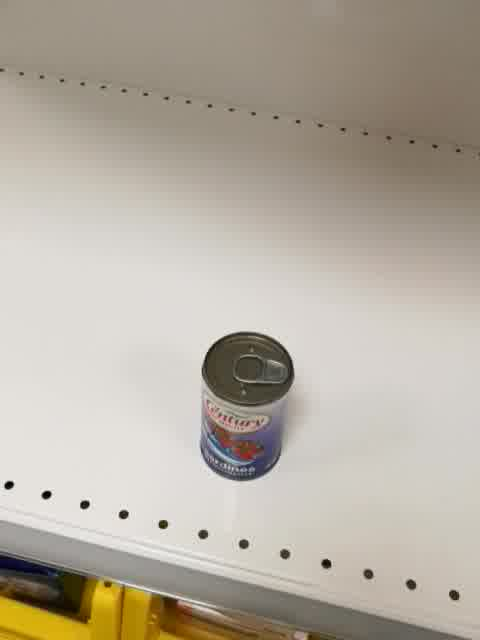sardine: (198, 330, 295, 482)
